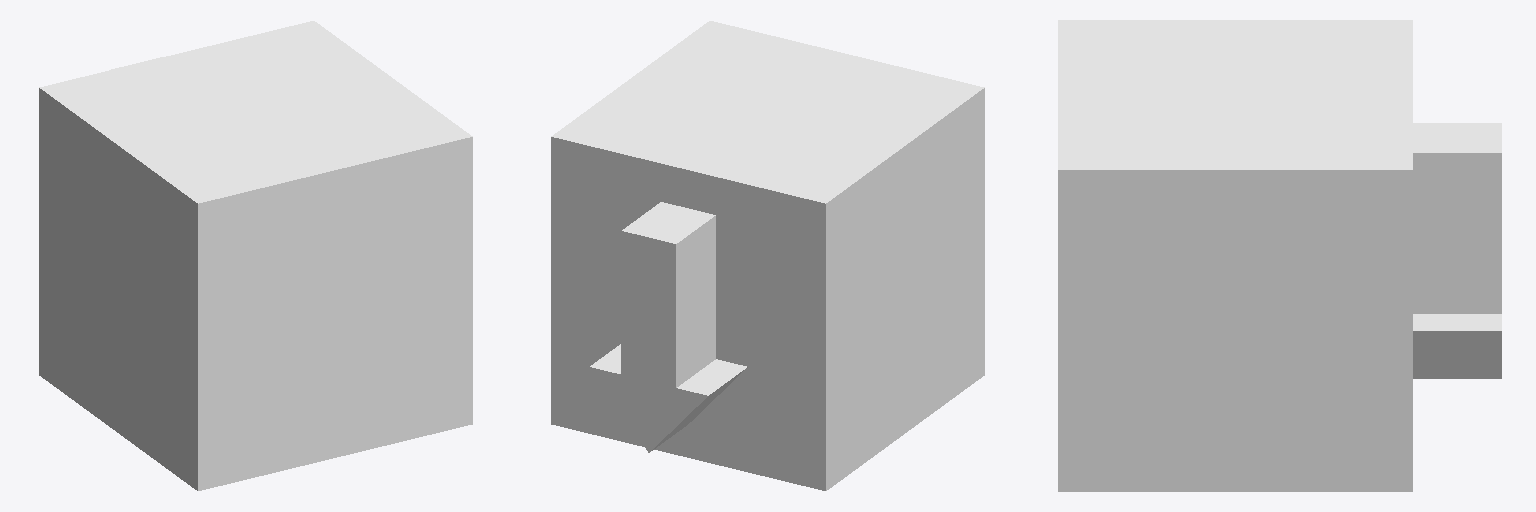
URDF robot description (Arrow_cube_cap):
<?xml version="1.0" ?>
<robot name="Arrow_cube_cap">
  <link name="baseLink">
    <contact>
    	<friction_anchor/>
    	   <lateral_friction value="1.0"/>
    </contact>
    <inertial>
      <origin rpy="0 0 0" xyz="0 0 0"/>
       <!-- mass controls penetration -->
       <mass value=".5"/>
       <inertia ixx="1e-4" ixy="0" ixz="0" iyy="1e-4" iyz="0" izz="1e-4"/>
    </inertial>
    <visual>
      <origin rpy="0 0 0" xyz="0 0 0"/>
      <geometry>
        <mesh filename="Arrow_cube_cap.obj"/>
      </geometry>
       <material name="white">
        <color rgba="1 1 1 1"/>
      </material>
    </visual>
    <collision>
      <origin rpy="0 0 0" xyz="0 0 0"/>
      <geometry>
        <mesh filename="Arrow_cube_cap.obj"/>
      </geometry>
    </collision>
  </link>
</robot>

--- What the picture shows (computed from the rendered views, not written in the file) ---
The picture shows the robot from 3 angles, left to right: view 1: azimuth 30°, elevation 25°; view 2: azimuth 150°, elevation 25°; view 3: azimuth 270°, elevation 25°; orthographic projection.
Robot: Arrow_cube_cap — 1 links, 0 joints (none); root link baseLink; default pose: every joint at zero.
Links seen in each view (by area): view 1: baseLink; view 2: baseLink; view 3: baseLink.
Link boxes in pixels (bbox=[...]): baseLink: bbox=[39, 21, 472, 490]; baseLink: bbox=[551, 21, 984, 490]; baseLink: bbox=[1058, 20, 1501, 491].
Bounding box of the posed robot: 0.08 × 0.1 × 0.08 m (x, y, z).
1 mesh visuals loaded from 1 distinct referenced files (1 OBJ).